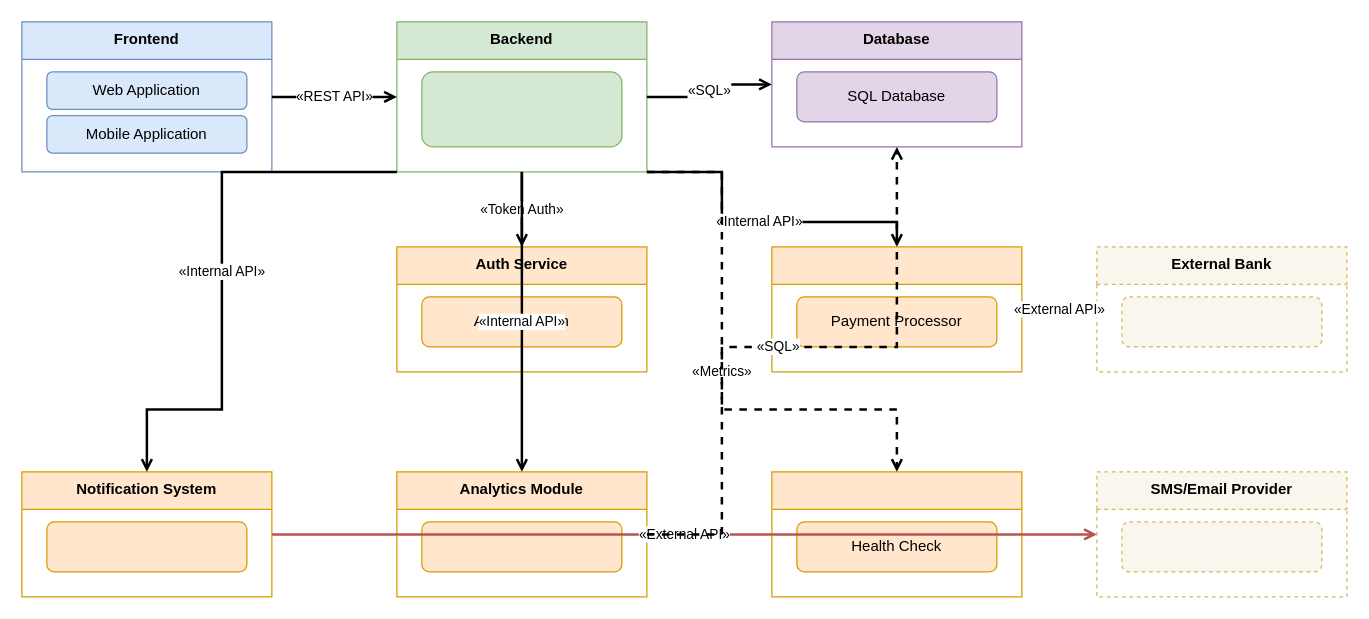
Image size: 1369x619. Some labels were removed from this diagram. The box of each missing label's shape, as (x1, y1, x2, y2) in pixels:
Bank API: (1121, 296, 1322, 347)
External API: (1121, 521, 1322, 572)
Monitoring System: (771, 471, 1022, 597)
Payment Gateway: (771, 246, 1022, 372)
Reports & Statistics: (421, 521, 622, 572)
Server Logic: (421, 71, 622, 147)
SMS / Email Sender: (46, 521, 247, 572)
